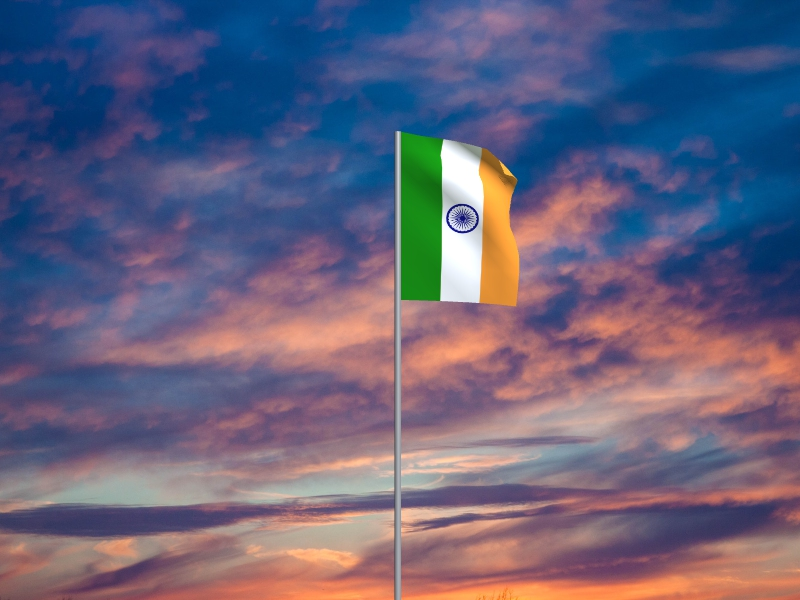in: (402, 132, 521, 307)
